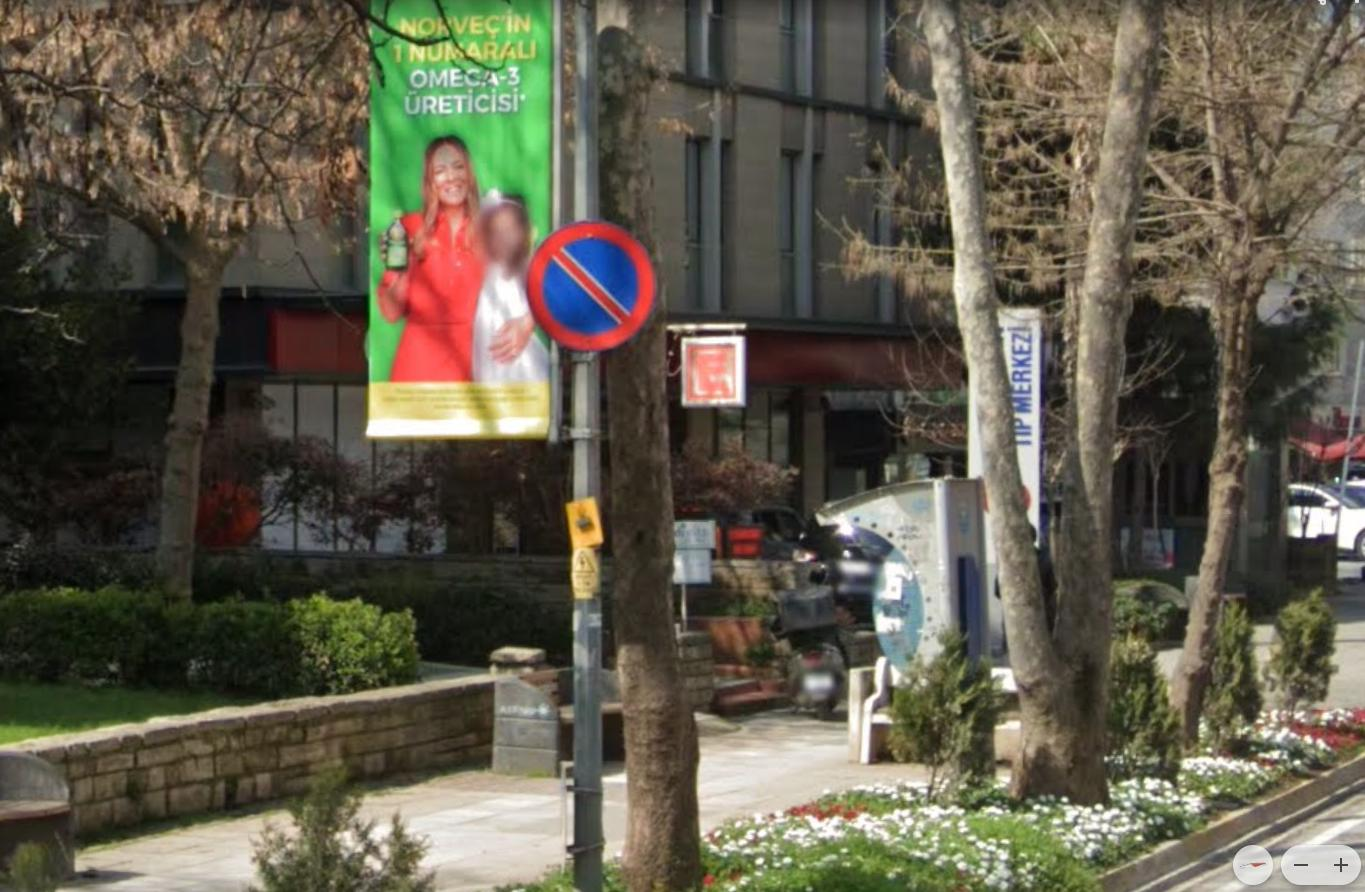nopark: (530, 225, 658, 350)
